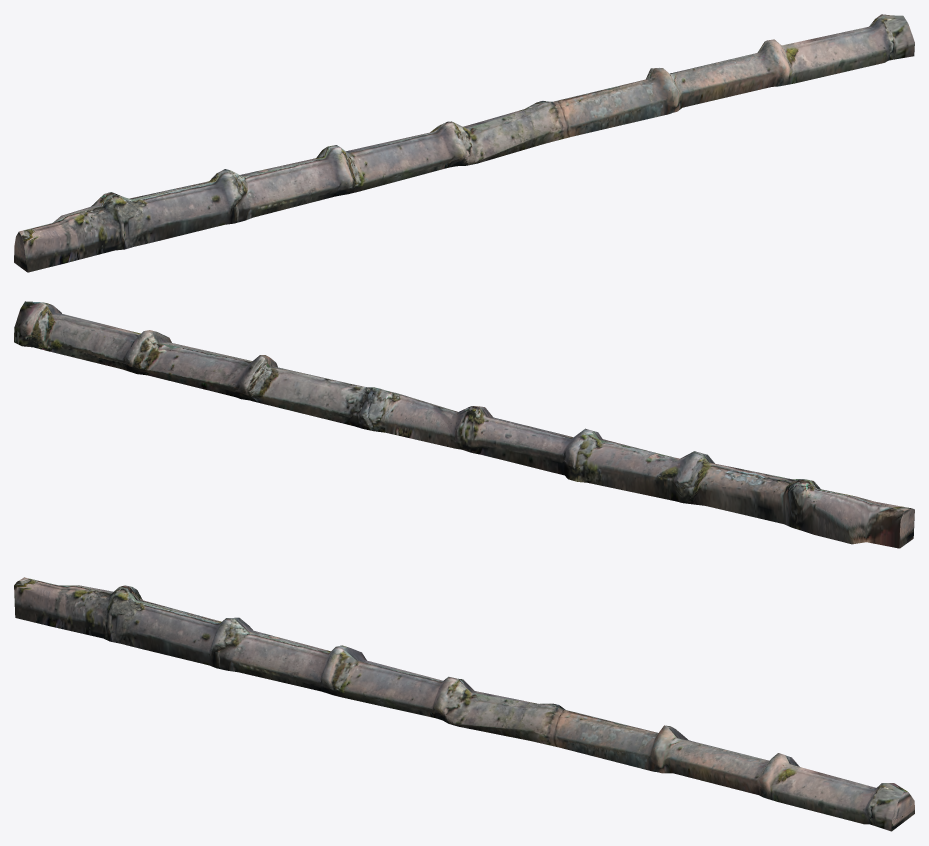
The model's file is SM_OldCeramicRoofTiles_01_04.fbx.
3 views of the same model, one above another, from view 1: azimuth 30°, elevation 25°; view 2: azimuth 150°, elevation 25°; view 3: azimuth 330°, elevation 25° (orthographic).
Parts seen in each view (by area): view 1: sm_OldCeramicRoofTiles_01_04_LOD0; view 2: sm_OldCeramicRoofTiles_01_04_LOD0; view 3: sm_OldCeramicRoofTiles_01_04_LOD0.
Boxes of the visible parts, box(x1,y1,x2,y2) form: sm_OldCeramicRoofTiles_01_04_LOD0: box(14, 14, 914, 272); sm_OldCeramicRoofTiles_01_04_LOD0: box(14, 301, 914, 548); sm_OldCeramicRoofTiles_01_04_LOD0: box(14, 577, 914, 831).
Size of the model in its own units: 36.18 by 603 by 29.14.
